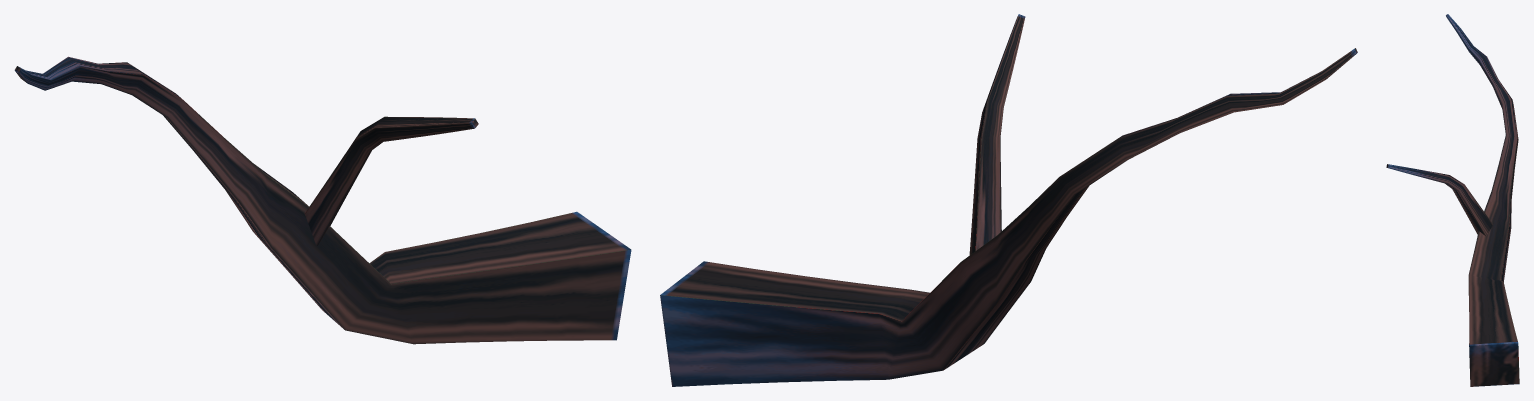
The model's file is chouka_shu_zi.FBX.
3 views of the same model, side by side, from view 1: azimuth 30°, elevation 25°; view 2: azimuth 150°, elevation 25°; view 3: azimuth 270°, elevation 25° (orthographic). The views are drawn at different scales.
Parts seen in each view (by area): view 1: chouka_shu_zi; view 2: chouka_shu_zi; view 3: chouka_shu_zi.
Part boxes in pixels (left/top/right/bottom): chouka_shu_zi: left=14, top=56, right=631, bottom=344; chouka_shu_zi: left=660, top=14, right=1357, bottom=386; chouka_shu_zi: left=1386, top=14, right=1519, bottom=386.
Bounding box in the file's own units: 15.29 × 10.14 × 5.54.
1 material, 1 textured.
